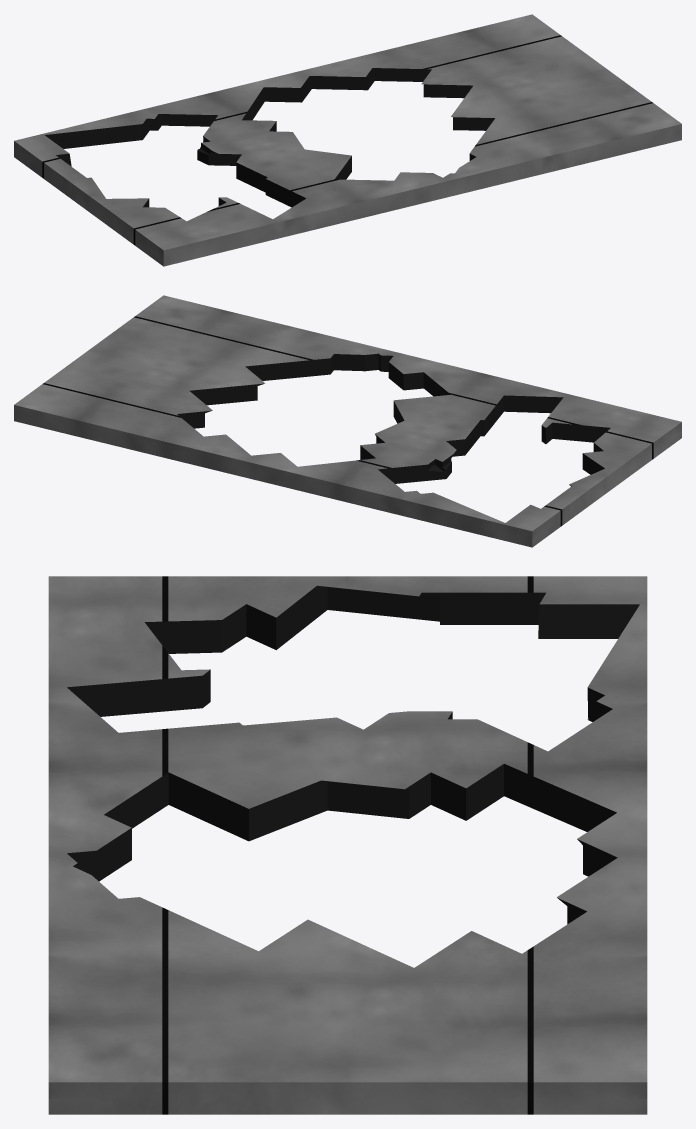
Rendered from Dirty Carbon Floor Broken M3.fbx.
3 renders of one model, top to bottom at view 1: azimuth 30°, elevation 25°; view 2: azimuth 150°, elevation 25°; view 3: azimuth 270°, elevation 25°, orthographic. The views are drawn at different scales.
Parts seen in each view (by area): view 1: dirty carbon grey Mesh (1), dirty carbon dark grey Mesh (1), carbon dark grey Mesh (1), white led off Mesh (1); view 2: dirty carbon grey Mesh (1), dirty carbon dark grey Mesh (1), carbon dark grey Mesh (1), white led off Mesh (1); view 3: dirty carbon grey Mesh (1), dirty carbon dark grey Mesh (1), carbon dark grey Mesh (1), white led off Mesh (1).
Boxes of the visible parts, x1,y1,x2,y2 form: dirty carbon grey Mesh (1): [14, 14, 681, 266]; dirty carbon dark grey Mesh (1): [44, 36, 651, 244]; carbon dark grey Mesh (1): [45, 68, 494, 207]; white led off Mesh (1): [42, 35, 652, 245]; dirty carbon grey Mesh (1): [14, 295, 681, 547]; dirty carbon dark grey Mesh (1): [44, 317, 651, 525]; carbon dark grey Mesh (1): [177, 353, 610, 486]; white led off Mesh (1): [43, 316, 653, 526]; dirty carbon grey Mesh (1): [48, 576, 647, 1114]; dirty carbon dark grey Mesh (1): [168, 576, 527, 1114]; carbon dark grey Mesh (1): [67, 585, 639, 924]; white led off Mesh (1): [162, 576, 533, 1114].
Size of what is drawn, in the model's own units: 10 by 0.3 by 5.
